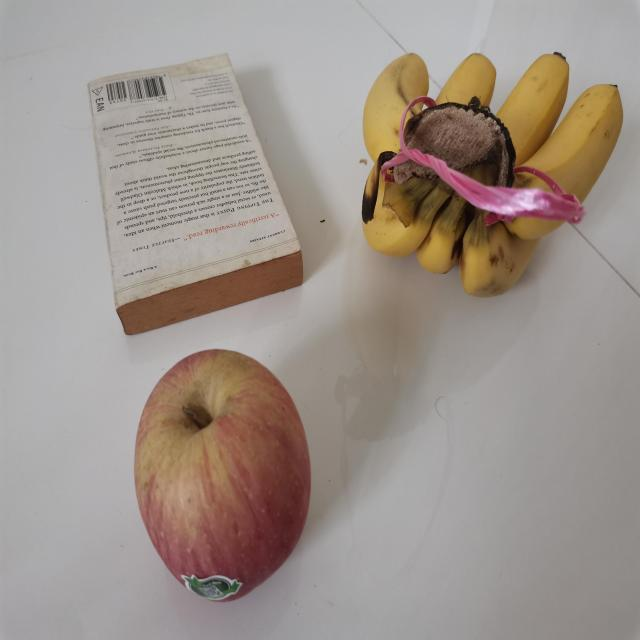Apple: (130, 347, 312, 601)
Banana: (354, 50, 622, 296)
Book: (84, 51, 309, 339)
